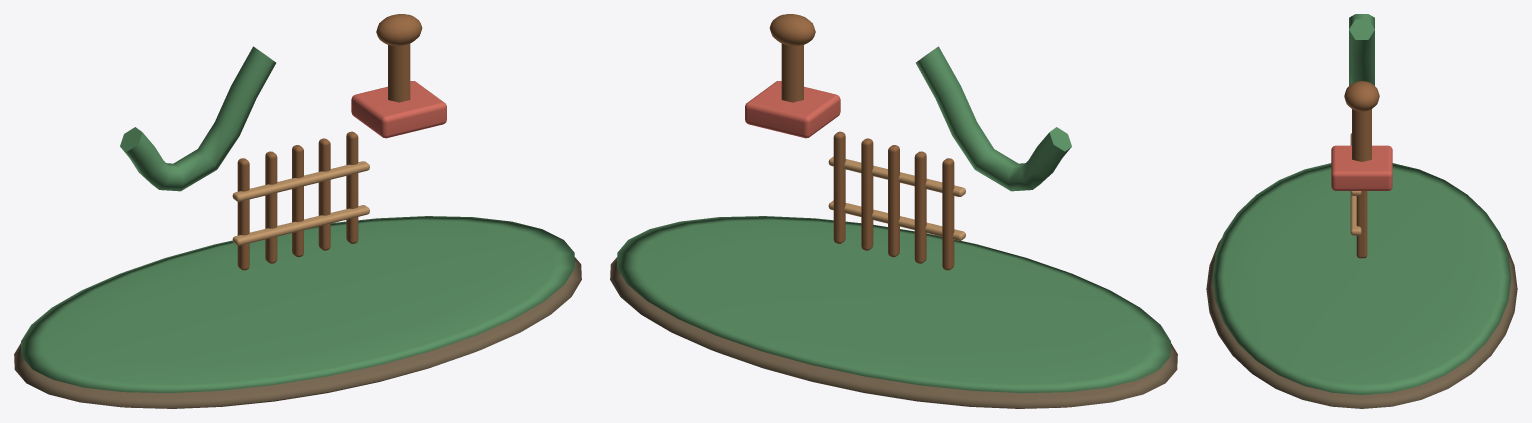
Rendered from complete-second-permission-but.glb.
3 views of the same model, side by side, from view 1: azimuth 30°, elevation 25°; view 2: azimuth 150°, elevation 25°; view 3: azimuth 270°, elevation 25° (orthographic). The views are drawn at different scales.
Visible parts, largest first — view 1: complete-second-permission-but_surface_01, complete-second-permission-but_surface_00, complete-second-permission-but_surface_03, complete-second-permission-but_surface_02, complete-second-permission-but_surface_04; view 2: complete-second-permission-but_surface_01, complete-second-permission-but_surface_00, complete-second-permission-but_surface_03, complete-second-permission-but_surface_02, complete-second-permission-but_surface_04; view 3: complete-second-permission-but_surface_01, complete-second-permission-but_surface_00, complete-second-permission-but_surface_03, complete-second-permission-but_surface_02, complete-second-permission-but_surface_04.
Part boxes in pixels (bbox=[...]): complete-second-permission-but_surface_01: bbox=[21, 46, 574, 393]; complete-second-permission-but_surface_00: bbox=[14, 257, 581, 408]; complete-second-permission-but_surface_03: bbox=[237, 14, 422, 270]; complete-second-permission-but_surface_02: bbox=[351, 81, 446, 138]; complete-second-permission-but_surface_04: bbox=[232, 161, 369, 245]; complete-second-permission-but_surface_01: bbox=[617, 46, 1170, 393]; complete-second-permission-but_surface_00: bbox=[610, 257, 1177, 408]; complete-second-permission-but_surface_03: bbox=[769, 14, 954, 270]; complete-second-permission-but_surface_02: bbox=[745, 81, 840, 138]; complete-second-permission-but_surface_04: bbox=[828, 156, 965, 240]; complete-second-permission-but_surface_01: bbox=[1212, 14, 1511, 394]; complete-second-permission-but_surface_00: bbox=[1206, 238, 1517, 408]; complete-second-permission-but_surface_03: bbox=[1344, 81, 1379, 258]; complete-second-permission-but_surface_02: bbox=[1331, 145, 1392, 190]; complete-second-permission-but_surface_04: bbox=[1350, 133, 1361, 235].
Size of the model in its own units: 4.56 by 2.36 by 2.5.
